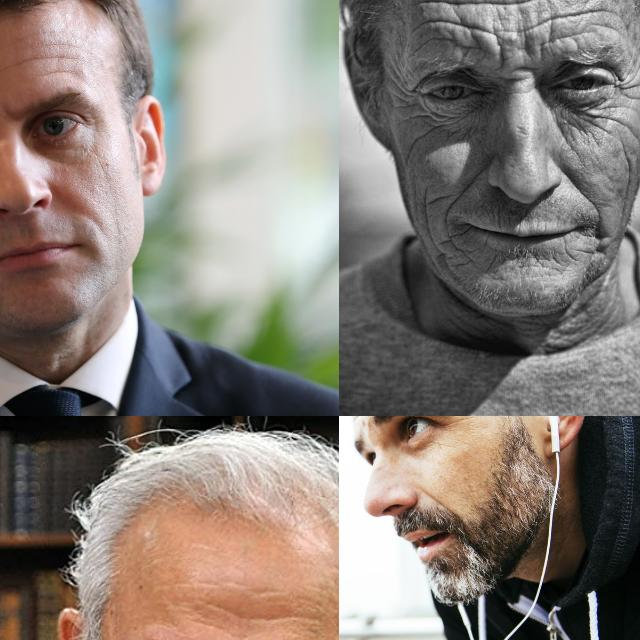chin: (482, 248, 501, 280), (562, 242, 580, 266)
crows_feet: (616, 60, 640, 105), (392, 80, 420, 116)
forehead: (12, 36, 92, 80), (422, 0, 490, 49), (211, 602, 309, 632), (497, 0, 559, 39), (573, 0, 620, 32)
gummy_smile: (561, 160, 599, 210), (452, 156, 484, 208)
masseter: (610, 126, 636, 198), (586, 108, 640, 140), (416, 182, 434, 240), (399, 129, 433, 157)
sad_smile: (438, 211, 472, 257)
